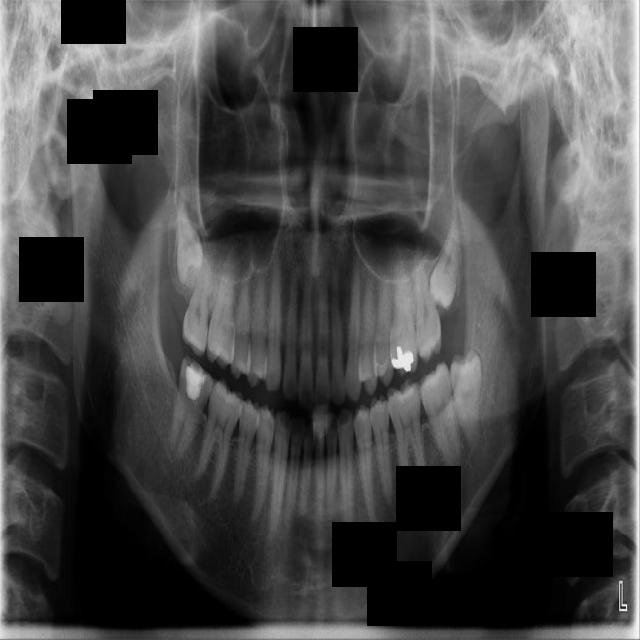3M ESPE Implant: (175, 192, 205, 290)
52: (165, 352, 223, 412), (390, 321, 418, 376)
BioHorizons Implant: (412, 246, 443, 363)
BioLife Implant: (425, 213, 468, 314)
Biomet 3i Implant: (447, 347, 487, 454)
Blue Sky Bio Implant: (415, 358, 467, 474)
Caries: (180, 225, 218, 358)
Implant: (166, 354, 217, 464)
